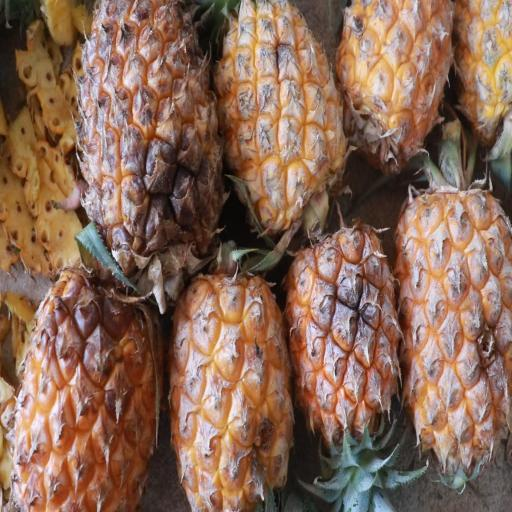Pineapple - v8 v1: (9, 248, 161, 512), (70, 3, 224, 262), (393, 165, 511, 484), (163, 249, 295, 512), (215, 0, 351, 232), (286, 216, 404, 446), (334, 0, 454, 172)
